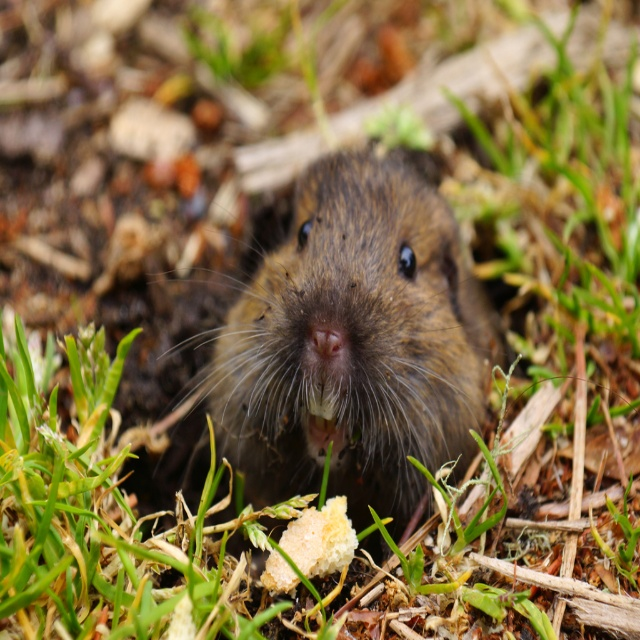Mouse: (144, 133, 522, 583)
